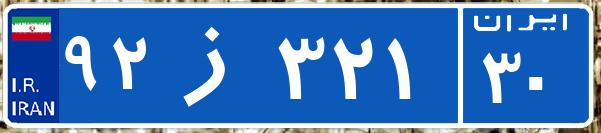0: (525, 38, 570, 115)
1: (385, 28, 445, 110)
2: (330, 28, 385, 110), (110, 28, 158, 105)
3: (273, 28, 330, 110), (475, 38, 525, 113)
9: (57, 26, 110, 107)
ز: (158, 15, 273, 115)
